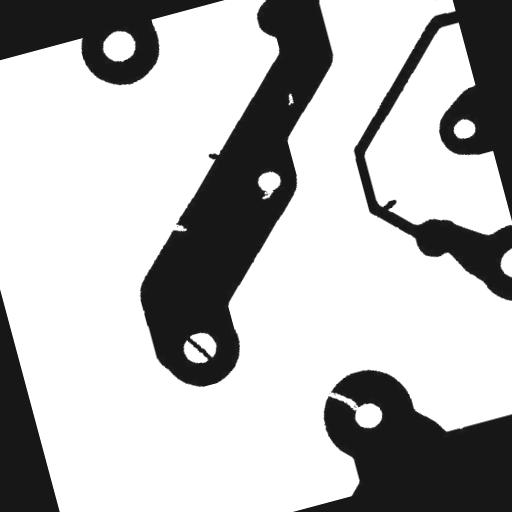mousebite: (158, 210, 196, 243), (250, 178, 284, 208)
open: (315, 376, 368, 426)
pin-hole: (276, 83, 303, 114)
short: (173, 318, 223, 376)
spur: (370, 190, 406, 220), (198, 142, 230, 172)
